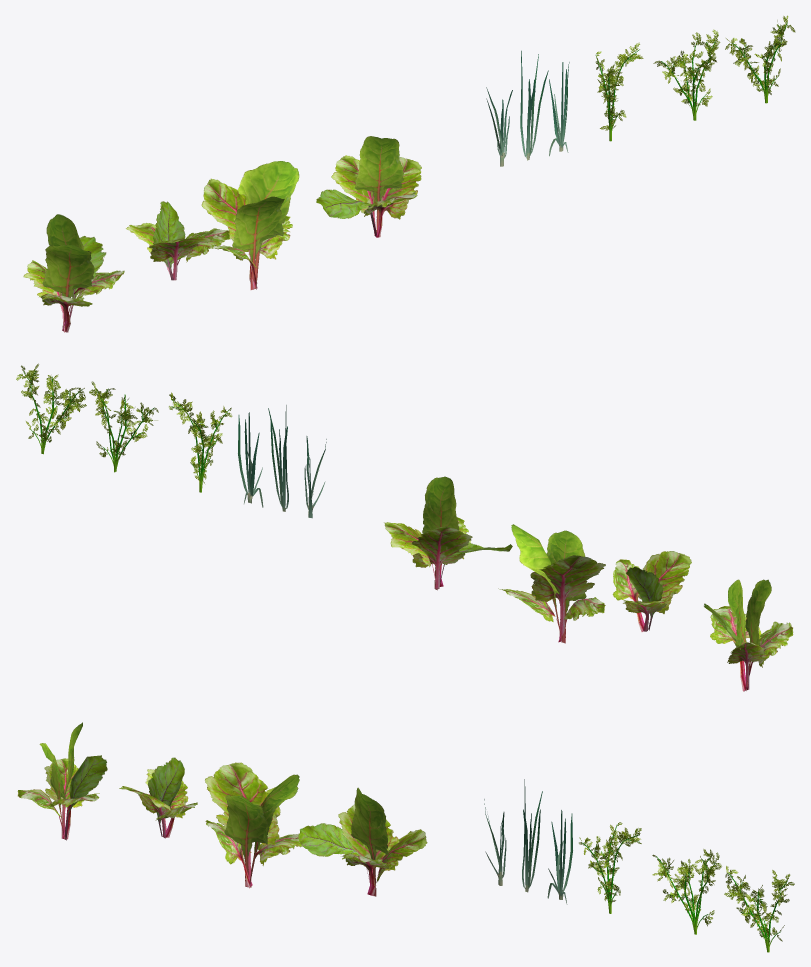
File: droter_00.fbx
The picture shows the model from 3 angles, top to bottom: view 1: azimuth 30°, elevation 25°; view 2: azimuth 150°, elevation 25°; view 3: azimuth 330°, elevation 25°; orthographic projection.
Visible parts, largest first — view 1: Beet, Beet.002, Beet.001, Beet.003, Carrot01, Carrot02, Carrot00, Onion, Onion.002, Onion.001; view 2: Beet, Beet.002, Beet.001, Beet.003, Carrot02, Carrot01, Carrot00, Onion.002, Onion; view 3: Beet, Beet.002, Beet.001, Beet.003, Carrot01, Carrot02, Carrot00, Onion.002, Onion, Onion.001.
Boxes of the visible parts, x1,y1,x2,y2 form: Beet: (201, 161, 299, 289); Beet.002: (316, 136, 421, 237); Beet.001: (23, 214, 124, 332); Beet.003: (126, 201, 229, 280); Carrot01: (653, 29, 720, 120); Carrot02: (725, 15, 795, 103); Carrot00: (595, 42, 643, 141); Onion: (520, 50, 548, 160); Onion.002: (549, 62, 569, 156); Onion.001: (486, 87, 512, 166); Beet: (498, 524, 605, 643); Beet.002: (384, 476, 512, 590); Beet.001: (704, 579, 793, 691); Beet.003: (612, 551, 691, 631); Carrot02: (16, 363, 86, 454); Carrot01: (89, 381, 158, 472); Carrot00: (169, 392, 232, 492); Onion.002: (238, 412, 263, 507); Onion: (268, 405, 288, 511); Beet: (205, 762, 301, 888); Beet.002: (298, 787, 427, 896); Beet.001: (17, 722, 107, 840); Beet.003: (119, 757, 197, 838); Carrot01: (652, 849, 721, 934); Carrot02: (724, 866, 794, 952); Carrot00: (579, 822, 641, 913); Onion.002: (547, 810, 572, 904); Onion: (522, 779, 542, 892); Onion.001: (484, 799, 506, 885).
Size of the model in its own units: 2923 by 631 by 377.
